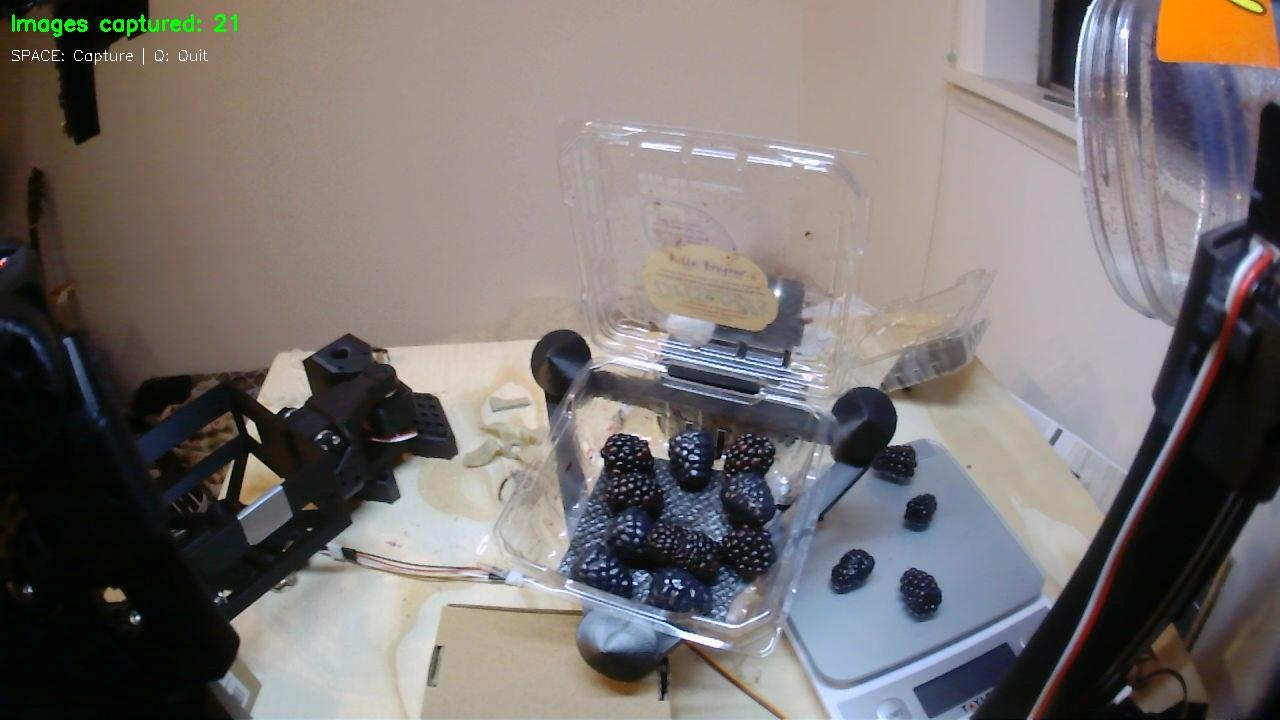berry: (645, 521, 720, 583), (571, 543, 632, 597), (668, 430, 718, 490), (605, 507, 655, 566), (601, 471, 663, 518), (720, 527, 776, 579), (723, 472, 776, 526), (645, 569, 711, 612), (724, 432, 774, 475), (601, 433, 652, 474), (900, 568, 941, 617), (831, 549, 874, 593), (872, 445, 916, 480), (904, 493, 936, 530)
